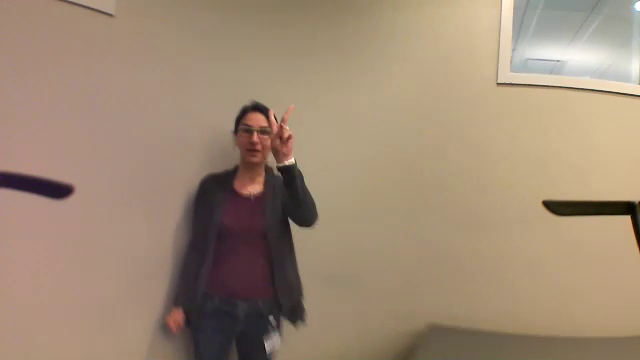peace: (262, 105, 301, 162)
